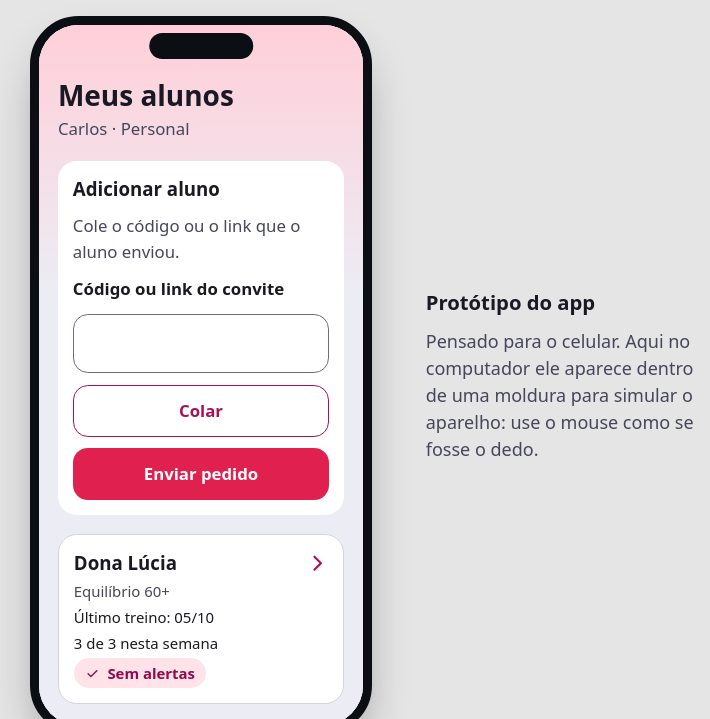
Test: adicionar aluno na própria lista › um código errado mostra o erro na própria lista, sem sair da tela
Type "ZZZZZZ" into the field labelled "Código ou link do convite". click: (201, 344)
box: [73,314,329,374]
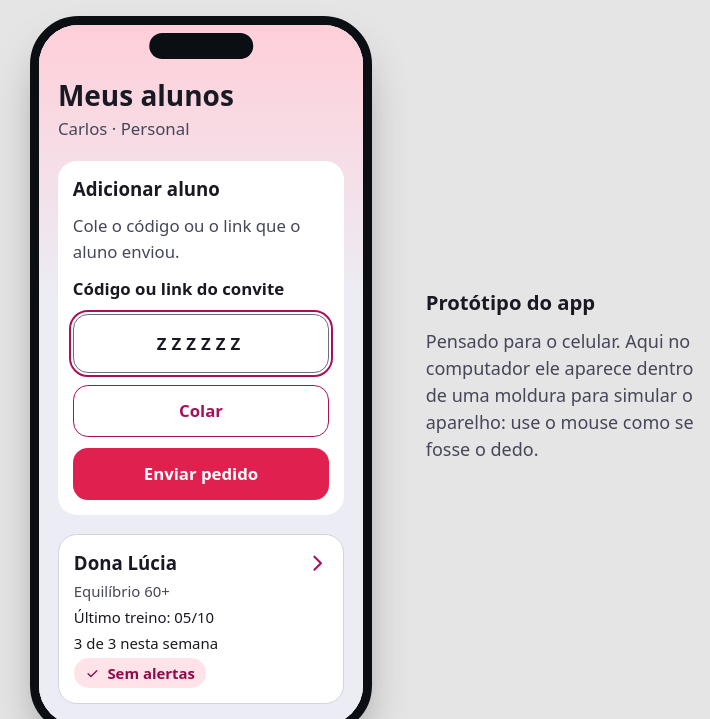
Click the button "Enviar pedido". click: (201, 474)
box: [73,448,329,500]
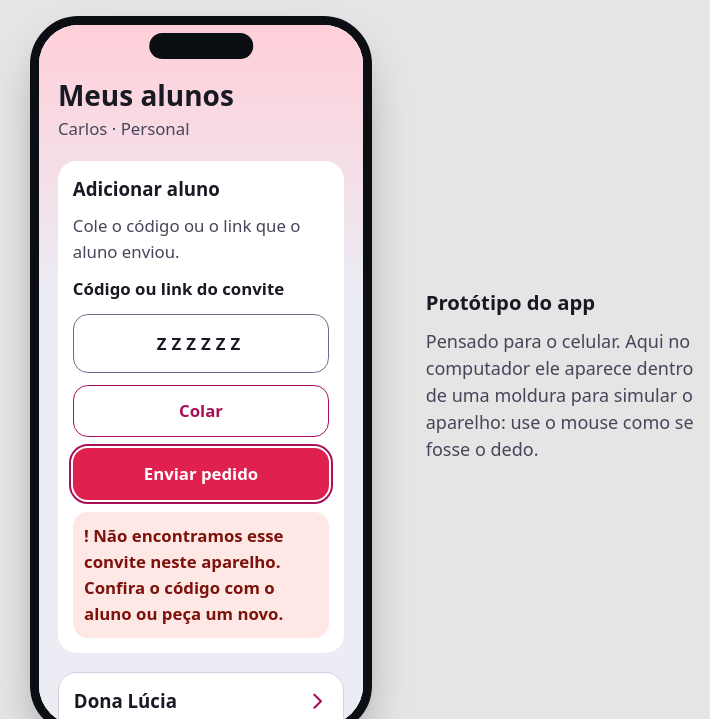
Expected: the message shows "Não encontramos esse convite neste aparelho", [84,524,284,625]
